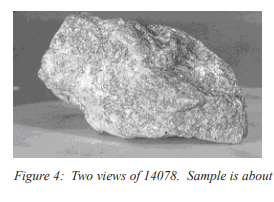Basalt: (35, 13, 250, 142)
